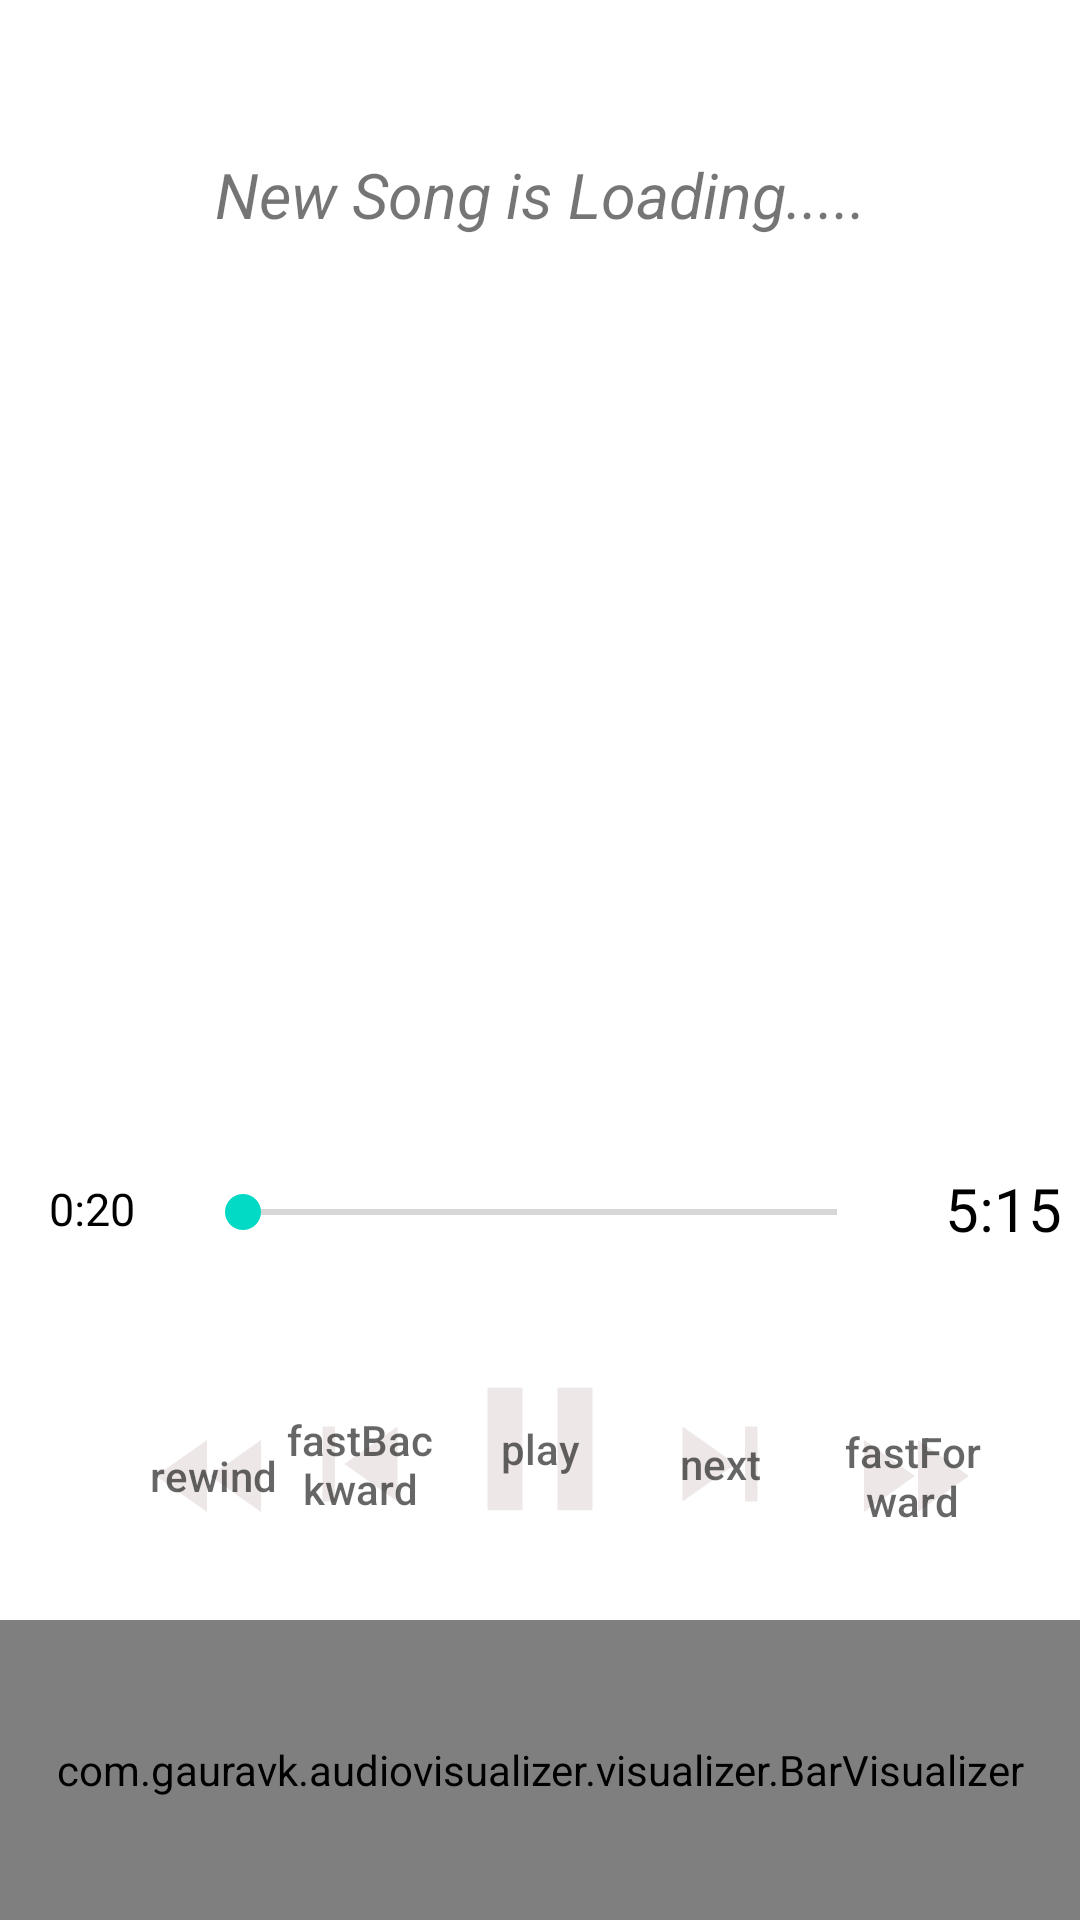

Where to tap for icons on this 1080px×1920px app screen, as [x,y]:
pause: [540,1449]
